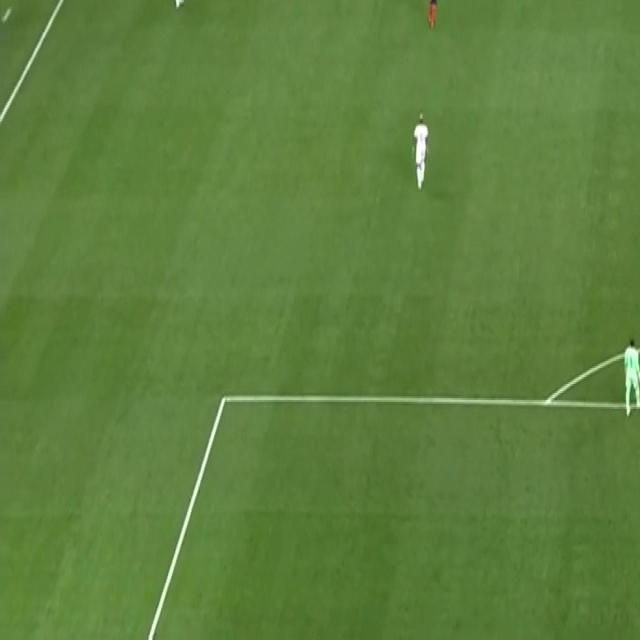player-white: (409, 110, 430, 196), (621, 330, 640, 418), (422, 0, 439, 28), (168, 0, 185, 12)
